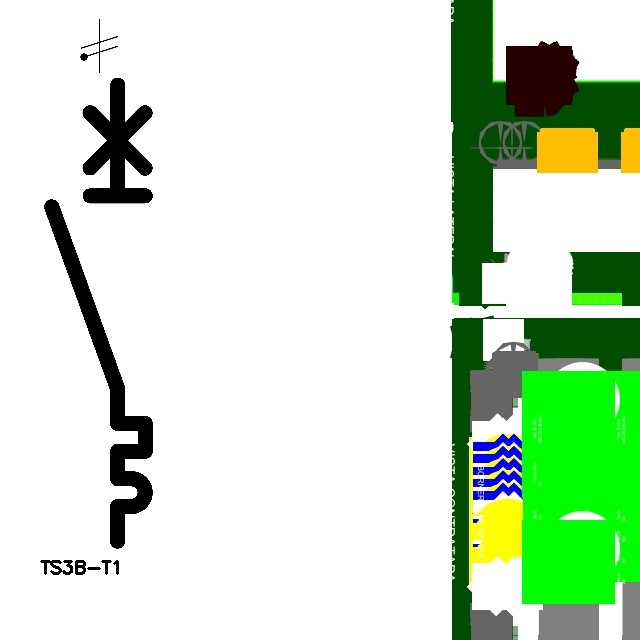interruptor_termomagnetico: (40, 73, 157, 553)
